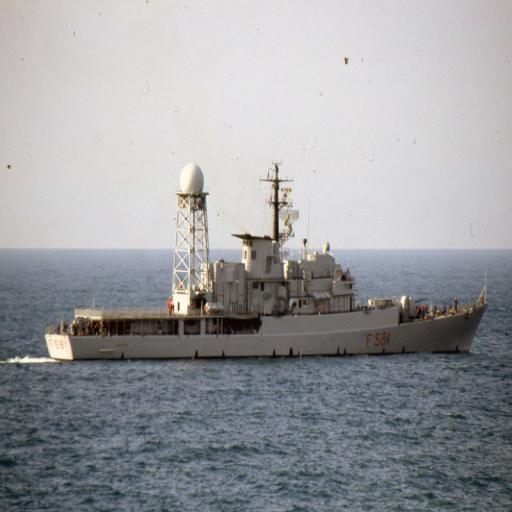Fragata: (44, 151, 493, 369)
